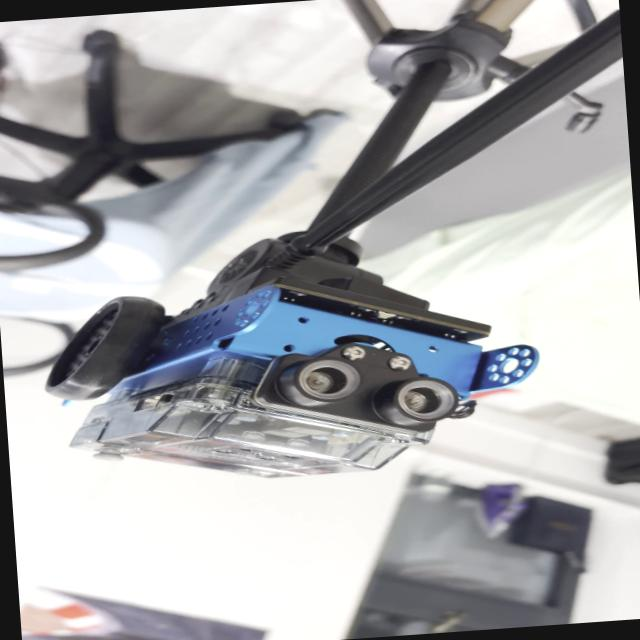mbot-detection: (28, 241, 562, 500)
